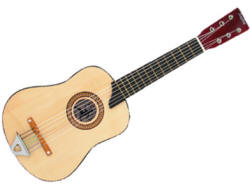guitar: (2, 8, 248, 183)
